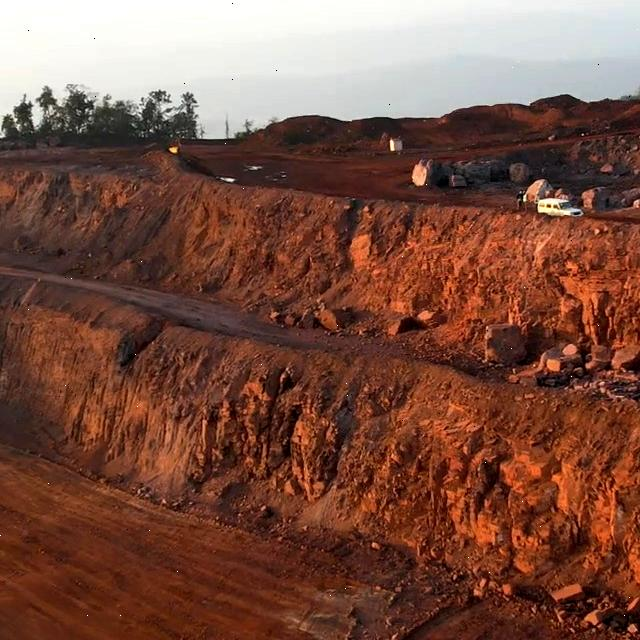car: (537, 193, 582, 222)
person: (516, 190, 530, 211)
